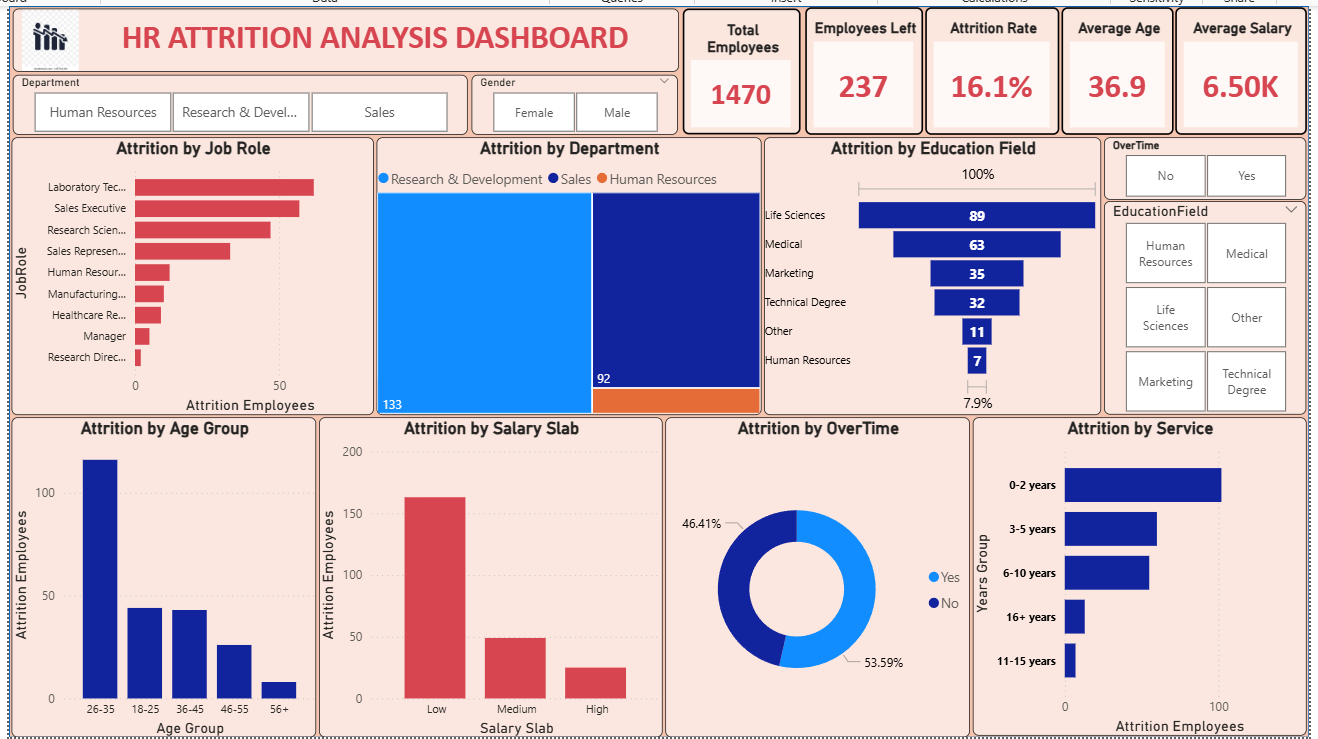

The page's visual inventory and layout, read from the dashboard file:
{"tool":"powerbi","page":{"name":"Page 1","canvas":[1280,720],"ordinal":0},"visuals":[{"type":"shape","box":[0,0,1280.3,720.4],"z":0},{"type":"textbox","box":[3.7,2.5,656,62.8],"z":1000},{"type":"slicer","fields":{"Values":["hr analytics.Department"]},"box":[3.7,67.7,448,59.1],"z":2000},{"type":"slicer","fields":{"Values":["hr analytics.Gender"]},"box":[455.4,67.7,203.1,59.1],"z":3000},{"type":"slicer","fields":{"Values":["hr analytics.EducationField"]},"box":[1078.2,192,199.4,210.5],"z":4000},{"type":"clusteredBarChart","title":"Attrition by Job Role","fields":{"Category":["hr analytics.JobRole"],"Y":["hr analytics.Attrition Employees"]},"box":[2.5,129.2,356.9,273.2],"z":5000},{"type":"treemap","title":"Attrition by Department","fields":{"Group":["hr analytics.Department"],"Values":["hr analytics.Attrition Employees"]},"box":[361.8,129.2,379.1,273.2],"z":6000},{"type":"clusteredColumnChart","title":"Attrition by Age Group","fields":{"Category":["hr analytics.Age Group"],"Y":["hr analytics.Attrition Employees"]},"box":[2.5,404.9,300.3,315.1],"z":7000},{"type":"lineClusteredColumnComboChart","title":"Attrition by Salary Slab","fields":{"Category":["hr analytics.Salary Slab"],"Y":["hr analytics.Attrition Employees"]},"box":[305.2,404.9,338.5,315.1],"z":8000},{"type":"donutChart","title":"Attrition by OverTime","fields":{"Category":["hr analytics.OverTime"],"Y":["hr analytics.Attrition Employees"]},"box":[646.2,404.9,300.3,315.1],"z":9000},{"type":"funnel","title":"Attrition by Education Field","fields":{"Category":["hr analytics.EducationField"],"Y":["hr analytics.Attrition Employees"]},"box":[743.4,129.2,332.3,273.2],"z":10000},{"type":"barChart","title":"Attrition by Service","fields":{"Category":["hr analytics.Years Group"],"Y":["hr analytics.Attrition Employees"]},"box":[948.9,404.9,328.6,313.8],"z":11000},{"type":"cardVisual","title":"Total Employees","fields":{"Data":["hr analytics.Total Employee"]},"box":[663.4,2.5,115.7,124.3],"z":12000},{"type":"cardVisual","title":"Employees Left","fields":{"Data":["hr analytics.Attrition Employees"]},"box":[784,1.2,115.7,125.5],"z":13000},{"type":"cardVisual","title":"Attrition Rate","fields":{"Data":["hr analytics.Attrition Percentage"]},"box":[902.2,1.2,131.7,125.5],"z":14000},{"type":"cardVisual","title":"Average Age","fields":{"Data":["hr analytics.Average Age"]},"box":[1036.3,1.2,110.8,125.5],"z":15000},{"type":"cardVisual","title":"Average Salary","fields":{"Data":["hr analytics.Average Monthly Income"]},"box":[1148.3,1.2,129.2,125.5],"z":16000},{"type":"image","box":[0,3.7,81.2,60.3],"z":17000},{"type":"slicer","fields":{"Values":["hr analytics.OverTime"]},"box":[1078.2,129.2,199.4,61.5],"z":18000}]}

Visuals, with their boxes in screenshot pixels (x1, y1, x2, y2):
shape: select_region(10, 3, 1304, 732)
textbox: select_region(14, 6, 677, 69)
slicer - hr analytics.Department: select_region(14, 72, 467, 132)
slicer - hr analytics.Gender: select_region(471, 72, 676, 132)
slicer - hr analytics.EducationField: select_region(1100, 197, 1302, 410)
"Attrition by Job Role" clusteredBarChart: select_region(13, 134, 374, 410)
"Attrition by Department" treemap: select_region(376, 134, 759, 410)
"Attrition by Age Group" clusteredColumnChart: select_region(13, 413, 316, 731)
"Attrition by Salary Slab" lineClusteredColumnComboChart: select_region(319, 413, 661, 731)
"Attrition by OverTime" donutChart: select_region(663, 413, 967, 731)
"Attrition by Education Field" funnel: select_region(762, 134, 1098, 410)
"Attrition by Service" barChart: select_region(969, 413, 1302, 730)
"Total Employees" cardVisual: select_region(681, 6, 798, 132)
"Employees Left" cardVisual: select_region(803, 5, 920, 131)
"Attrition Rate" cardVisual: select_region(922, 5, 1055, 131)
"Average Age" cardVisual: select_region(1058, 5, 1170, 131)
"Average Salary" cardVisual: select_region(1171, 5, 1302, 131)
image: select_region(10, 7, 92, 68)
slicer - hr analytics.OverTime: select_region(1100, 134, 1302, 196)
